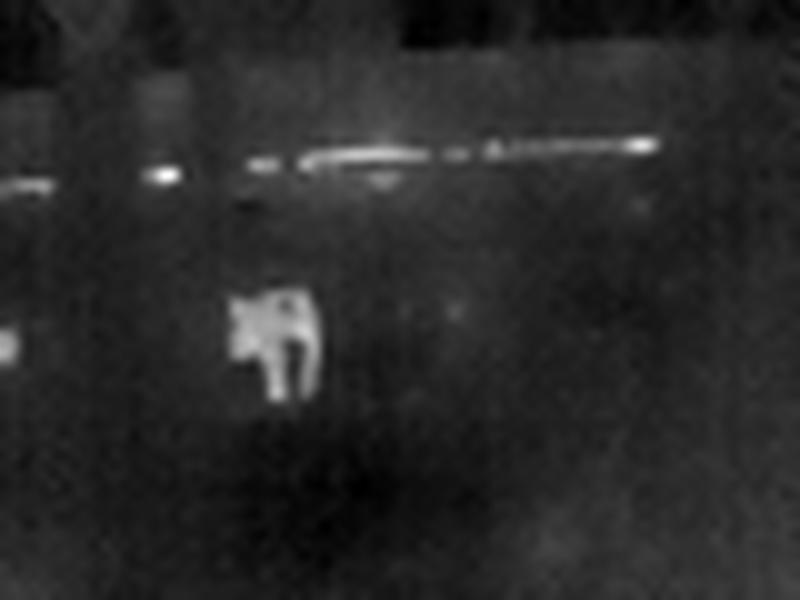elephant: (191, 296, 339, 398)
